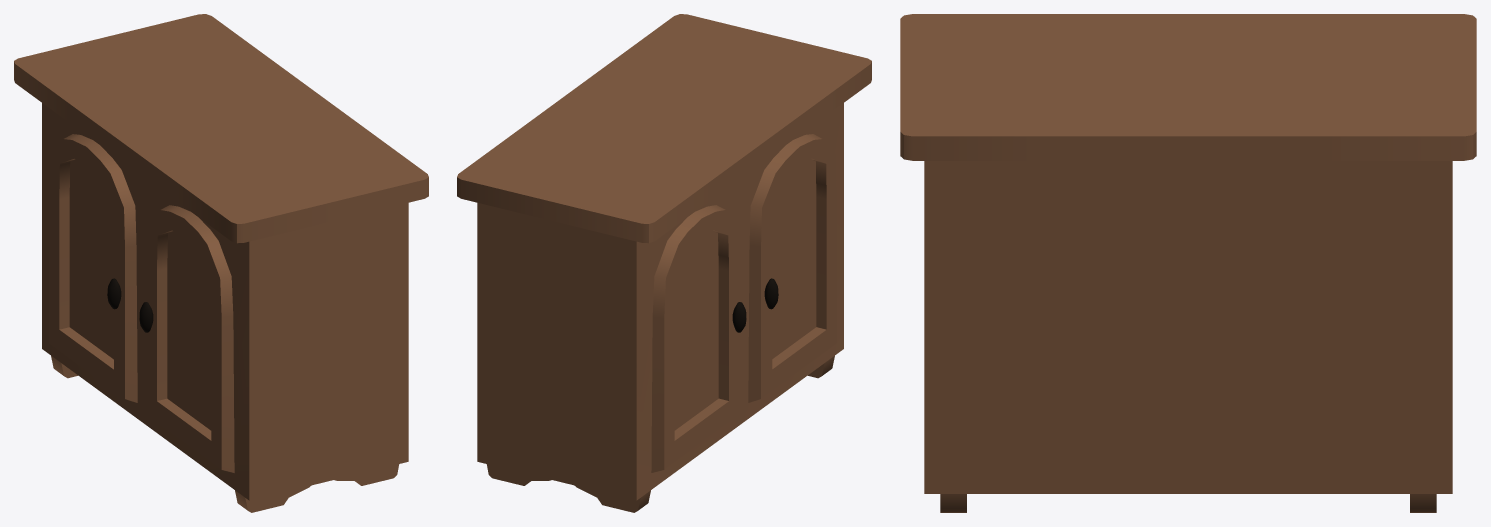
File: 079_cupboard_var1.glb
3 views of the same model, side by side, from view 1: azimuth 30°, elevation 25°; view 2: azimuth 150°, elevation 25°; view 3: azimuth 270°, elevation 25° (orthographic). The views are drawn at different scales.
Visible parts, largest first — view 1: table, knob; view 2: table, knob; view 3: table.
Part boxes in pixels (x1,y1,x2,y2): table: [14, 14, 428, 512]; knob: [107, 278, 153, 332]; table: [457, 14, 871, 512]; knob: [732, 278, 778, 332]; table: [900, 14, 1476, 512].
Bounding box in the file's own units: 0.7553 × 1.12 × 1.5.
